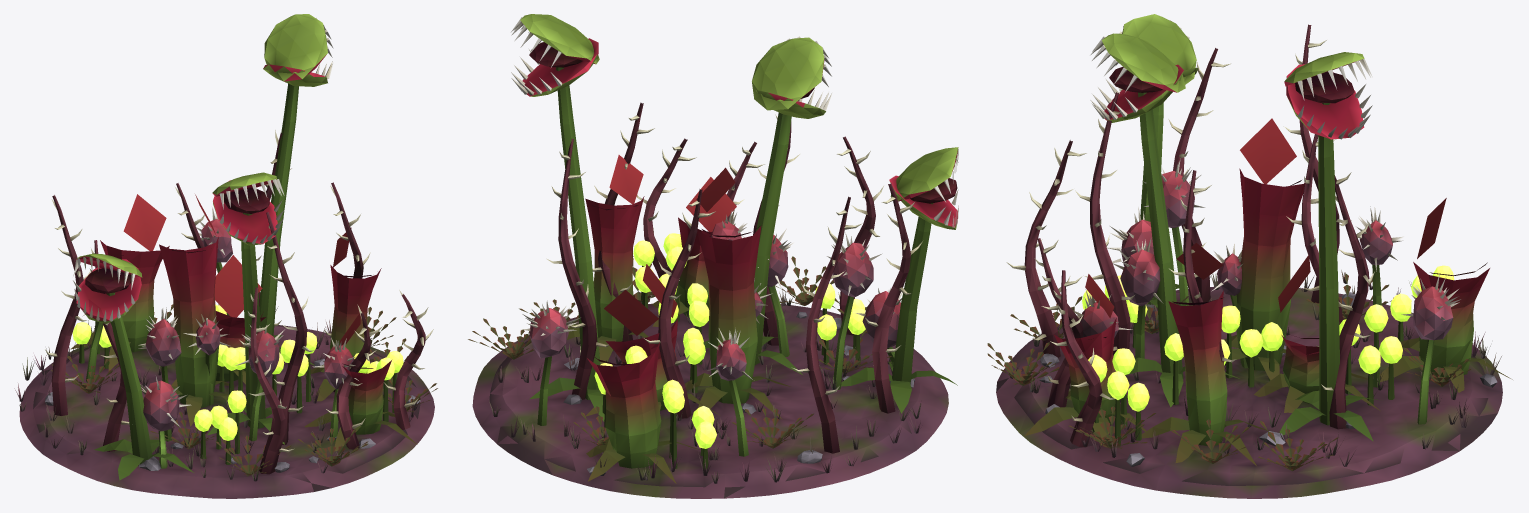
Rendered from deadly-vegetation.glb.
The picture shows the model from 3 angles, left to right: view 1: azimuth 30°, elevation 25°; view 2: azimuth 150°, elevation 25°; view 3: azimuth 270°, elevation 25°; orthographic projection. The views are drawn at different scales.
Visible parts, largest first — view 1: deadly-vegetation; view 2: deadly-vegetation; view 3: deadly-vegetation.
Part boxes in pixels (<box>): deadly-vegetation: <box>14,14,437,498</box>; deadly-vegetation: <box>468,14,958,498</box>; deadly-vegetation: <box>987,14,1512,498</box>.
Bounding box in the file's own units: 0.964 × 0.844 × 0.9955.
